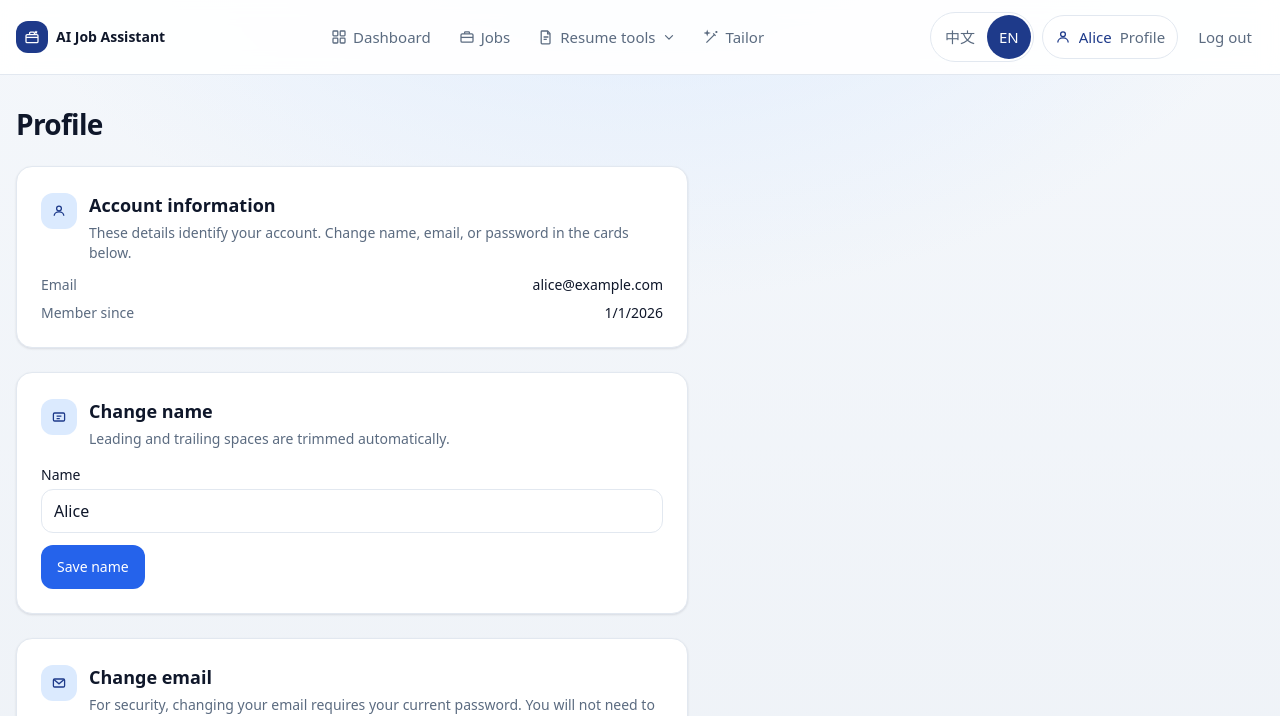
Scenario: ProfilePage › trims whitespace, updates the name, and immediately updates the nav bar without re-login
This screenshot has width=1280, height=716.
Check: the text "alice@example.com" is shown, box left=533, top=275, right=663, bottom=295
Replace the text in the field labelled "Name" with "  Alice Smith  ": (352, 511) left=41, top=489, right=663, bottom=533
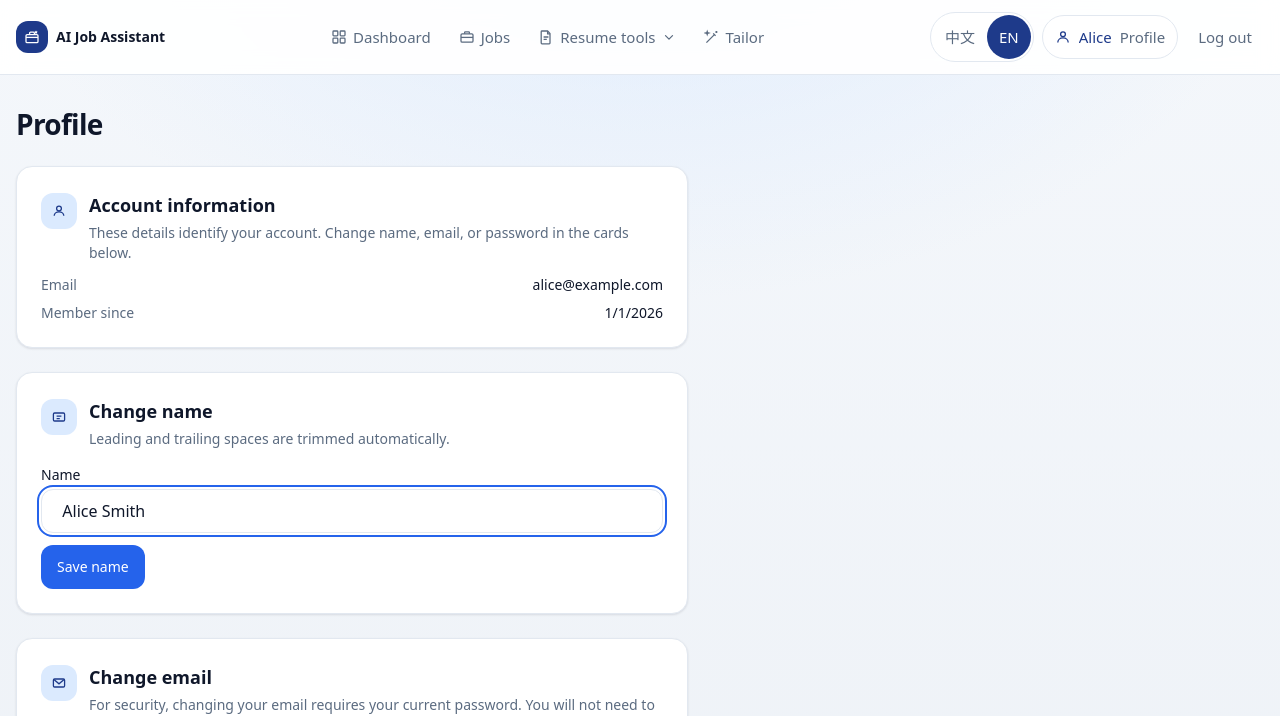
Click the button "Save name": (93, 567) left=41, top=545, right=145, bottom=589
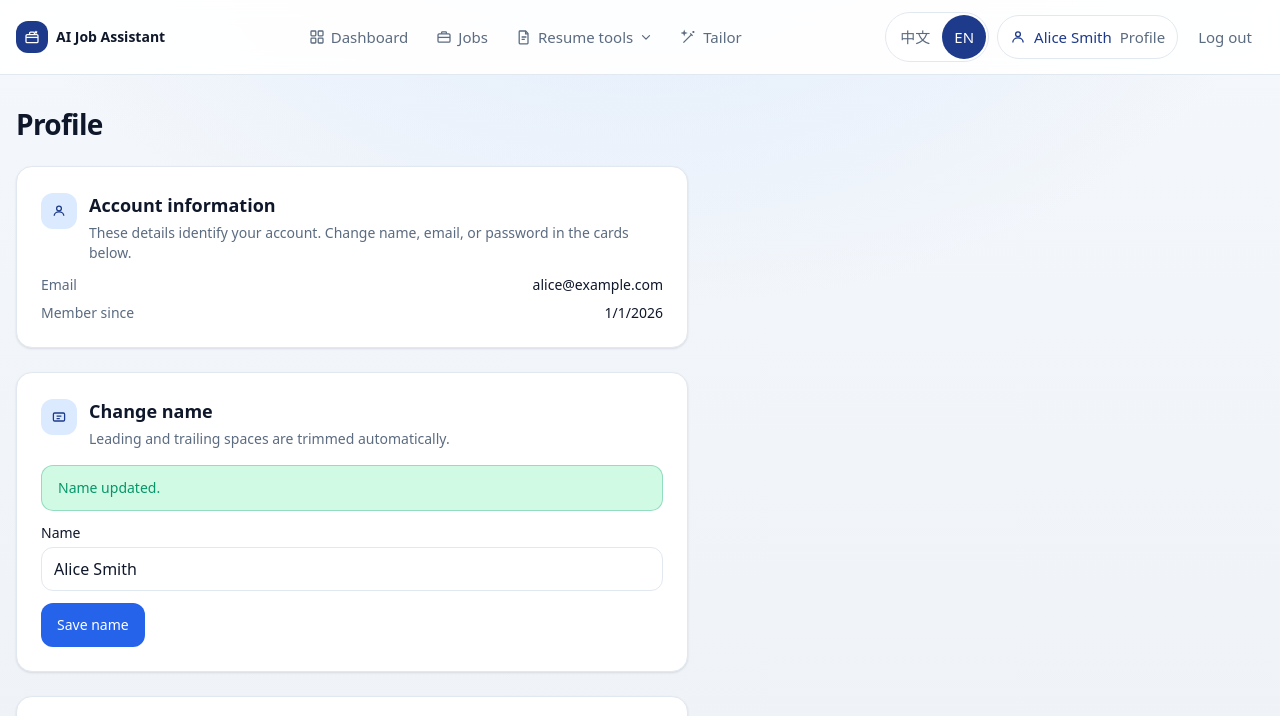
Check: the text "Name updated." is shown, box left=41, top=465, right=663, bottom=511
Check: the text "Alice Smith" is shown, box left=1034, top=26, right=1112, bottom=48
